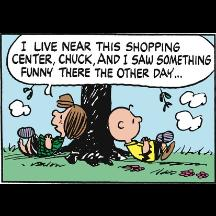charlie: (107, 103, 175, 162)
